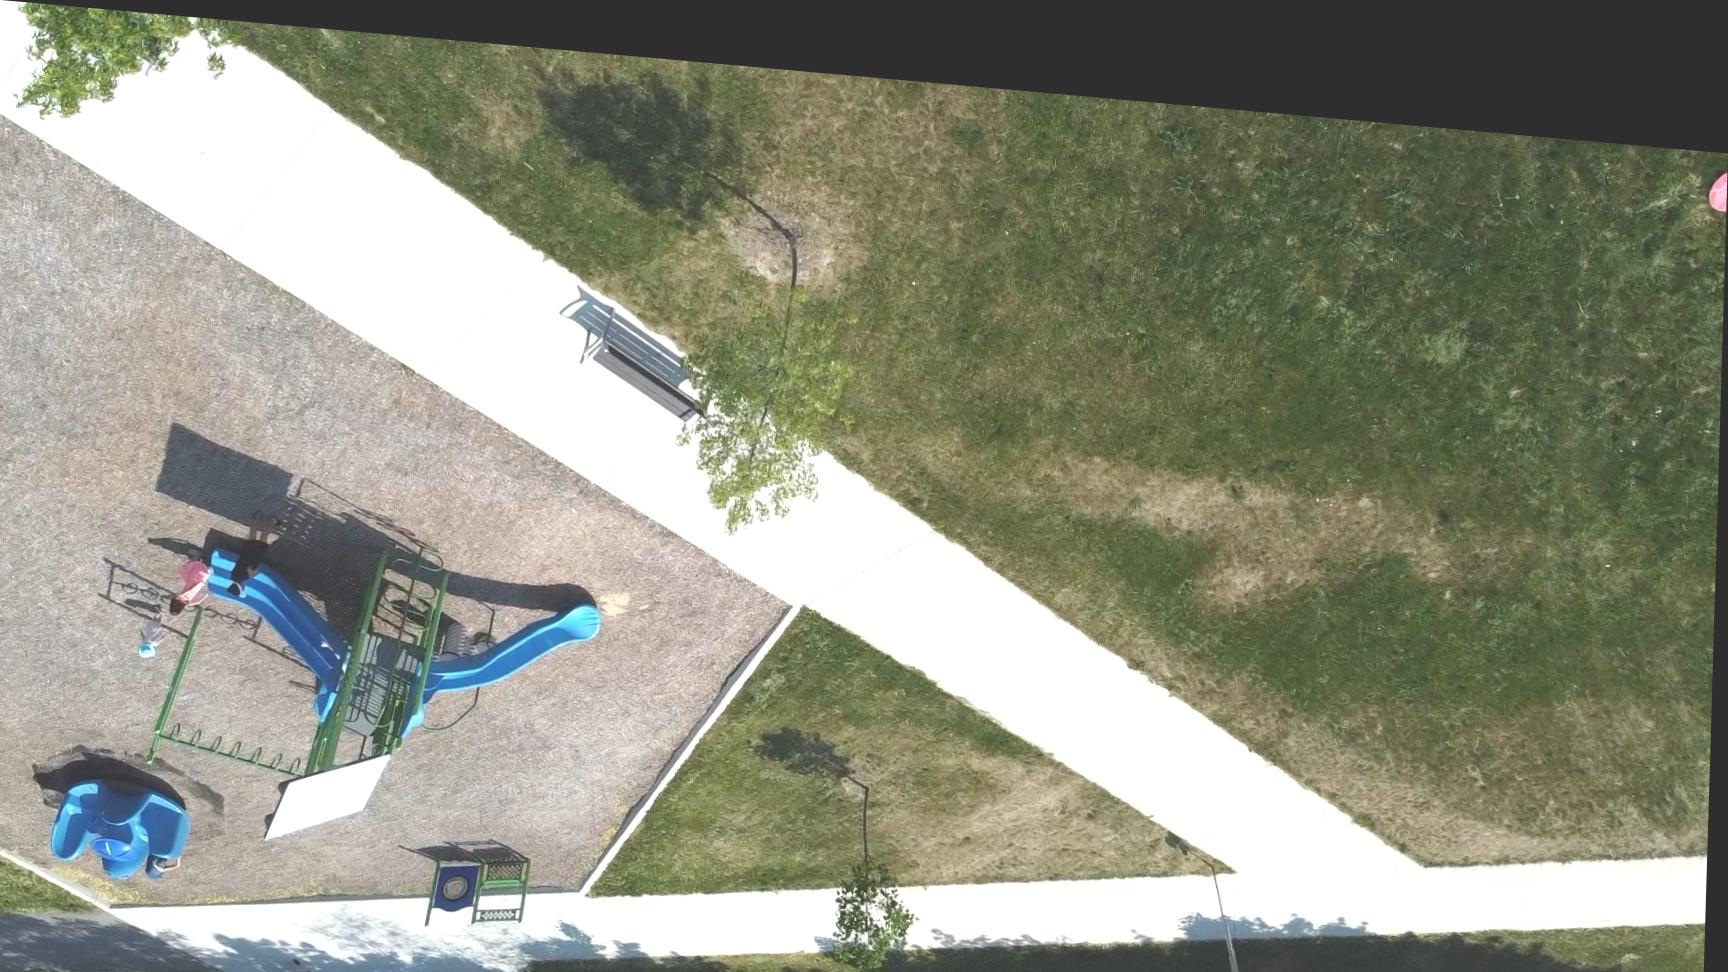Red: (1707, 122, 1728, 182)
